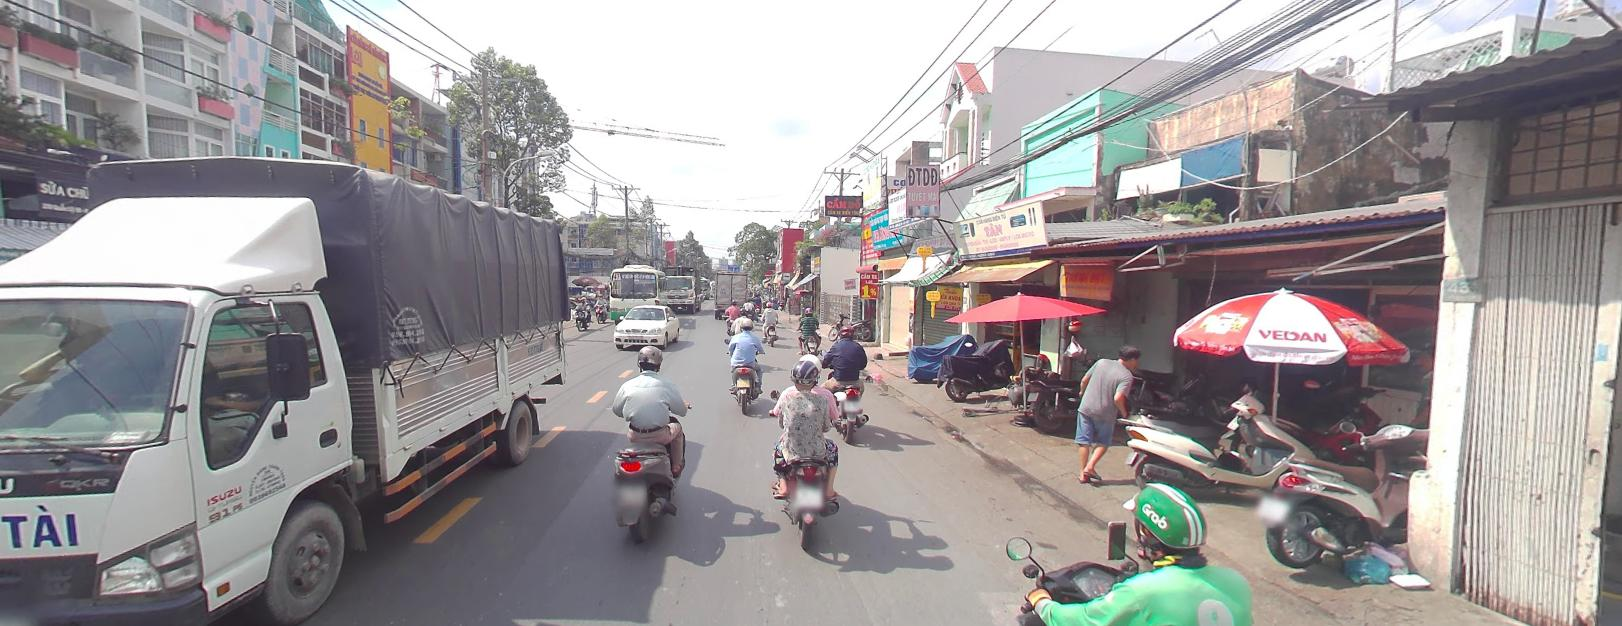Cam nguoc chieu: (763, 269, 771, 275)
